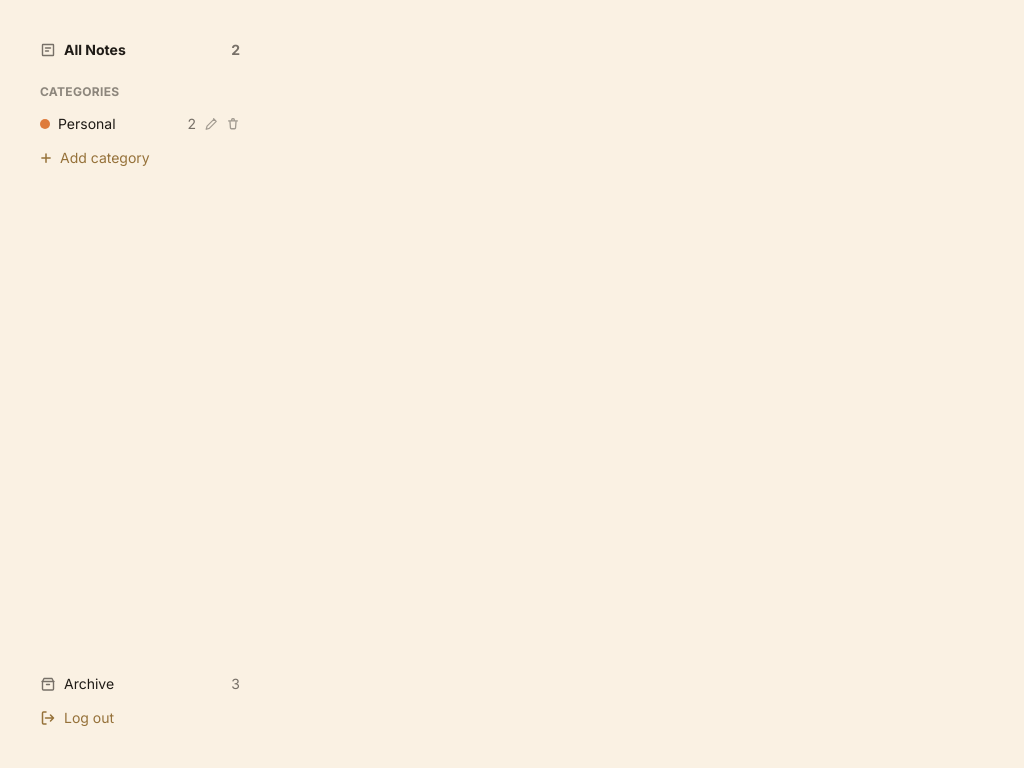
Test: Sidebar › deleting a category › asks in an in-app dialog rather than window.confirm
Step 1. Click the button named "Delete Personal" → (233, 124), box [226,117,240,131]
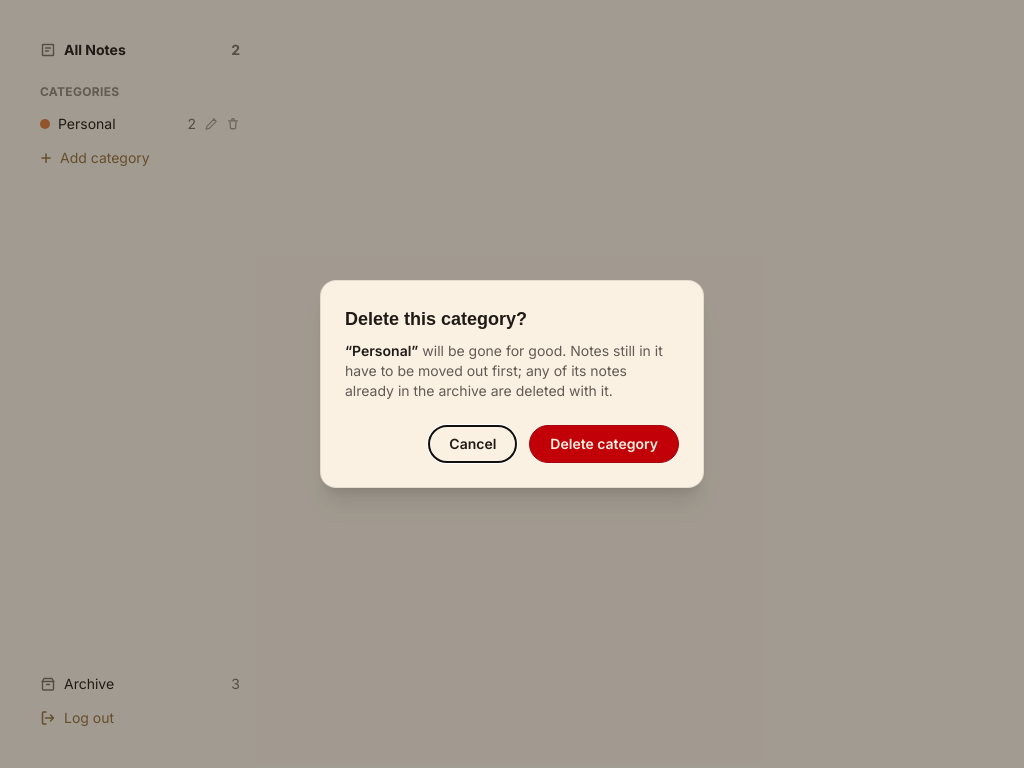
Expected: the dialog shows "Personal", [352,342,411,359]
